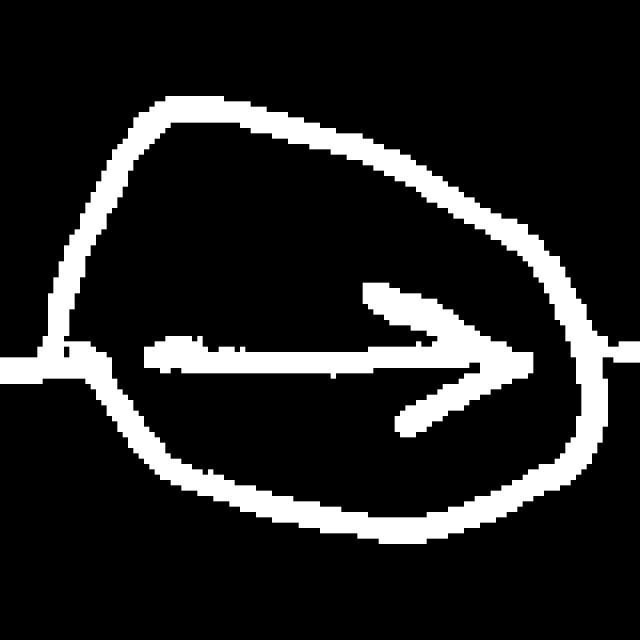current_source: (28, 71, 619, 563)
